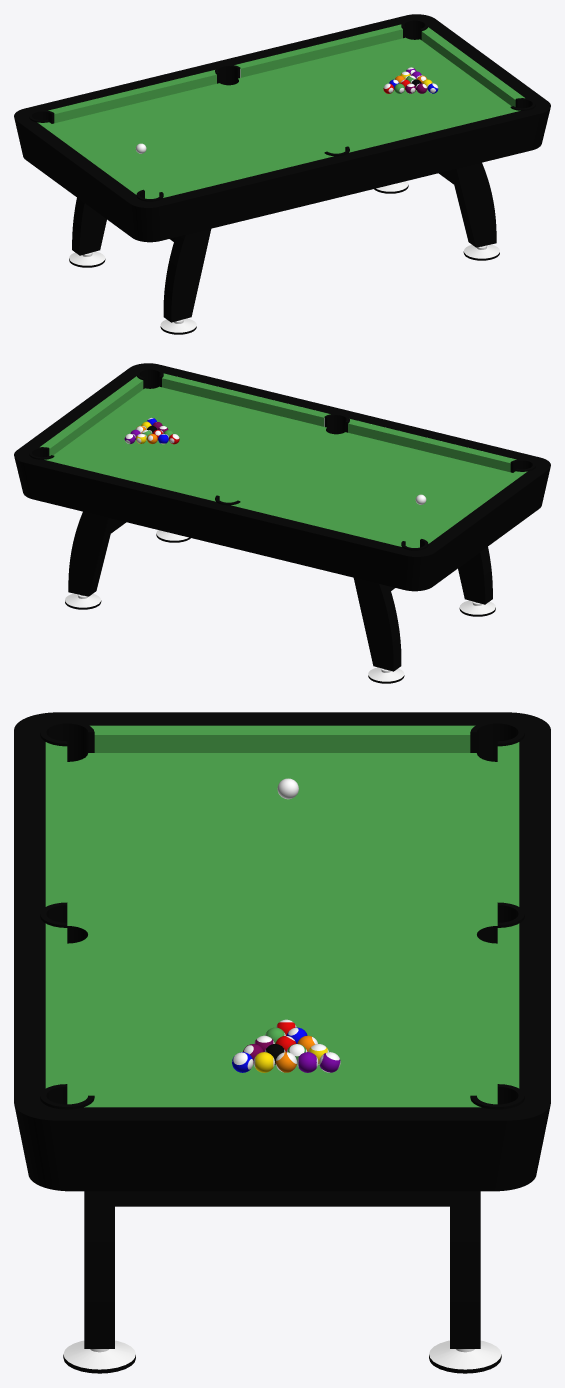
File: pool-table-8ft.glb
The picture shows the model from 3 angles, top to bottom: view 1: azimuth 30°, elevation 25°; view 2: azimuth 150°, elevation 25°; view 3: azimuth 270°, elevation 25°; orthographic projection. The views are drawn at different scales.
Parts seen in each view (by area): view 1: Mesh45 Group1 Model, Mesh3 Group3 Group1 Model, Mesh7 Group5 Group1 Model, Mesh1 Group2 Group1 Model, Mesh18 patte2 Group1 Model, Mesh9 patte1 Group1 Model, Mesh27 patte3 Group1 Model; view 2: Mesh45 Group1 Model, Mesh1 Group2 Group1 Model, Mesh5 Group4 Group1 Model, Mesh3 Group3 Group1 Model, Mesh36 patte4 Group1 Model, Mesh27 patte3 Group1 Model, Mesh9 patte1 Group1 Model; view 3: Mesh45 Group1 Model, Mesh46 Group1 Model, Mesh5 Group4 Group1 Model, Mesh7 Group5 Group1 Model, Mesh36 patte4 Group1 Model, Mesh18 patte2 Group1 Model.
Boxes of the visible parts, <box> form: Mesh45 Group1 Model: <box>14,14,550,242</box>; Mesh3 Group3 Group1 Model: <box>163,229,211,322</box>; Mesh7 Group5 Group1 Model: <box>450,162,496,247</box>; Mesh1 Group2 Group1 Model: <box>72,198,106,255</box>; Mesh18 patte2 Group1 Model: <box>463,244,499,260</box>; Mesh9 patte1 Group1 Model: <box>160,318,196,334</box>; Mesh27 patte3 Group1 Model: <box>69,251,105,267</box>; Mesh45 Group1 Model: <box>14,363,550,591</box>; Mesh1 Group2 Group1 Model: <box>353,578,401,671</box>; Mesh5 Group4 Group1 Model: <box>68,511,114,596</box>; Mesh3 Group3 Group1 Model: <box>458,547,492,604</box>; Mesh36 patte4 Group1 Model: <box>65,593,101,609</box>; Mesh27 patte3 Group1 Model: <box>368,667,404,683</box>; Mesh9 patte1 Group1 Model: <box>459,600,495,616</box>; Mesh45 Group1 Model: <box>14,712,550,1191</box>; Mesh46 Group1 Model: <box>115,1191,449,1206</box>; Mesh5 Group4 Group1 Model: <box>450,1191,480,1348</box>; Mesh7 Group5 Group1 Model: <box>84,1191,114,1348</box>; Mesh36 patte4 Group1 Model: <box>429,1340,501,1373</box>; Mesh18 patte2 Group1 Model: <box>63,1340,135,1373</box>.
Bounding box in the file's own units: 2.38 × 0.8001 × 1.32.
